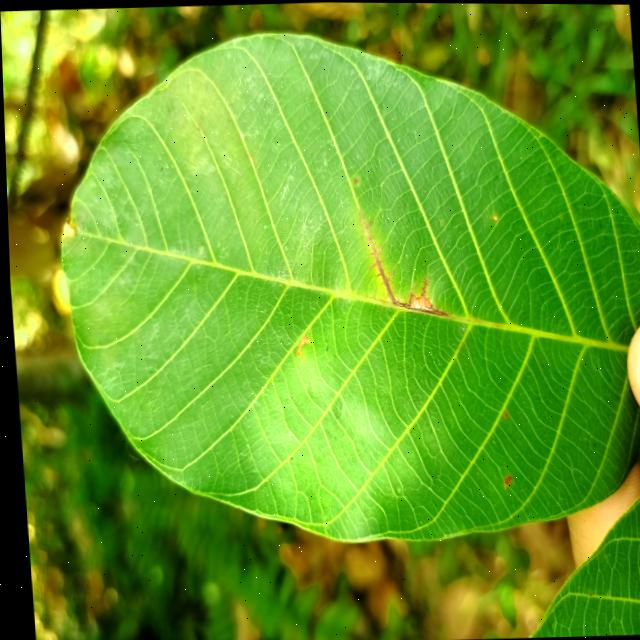Corynespora: (354, 207, 394, 304), (390, 273, 446, 320)
